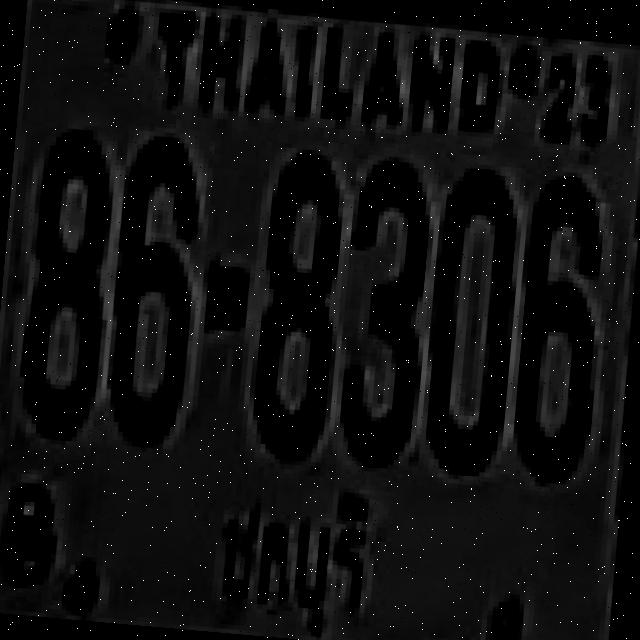0: (39, 125, 118, 272), (264, 148, 342, 290)
Chonburi: (201, 475, 384, 640)
